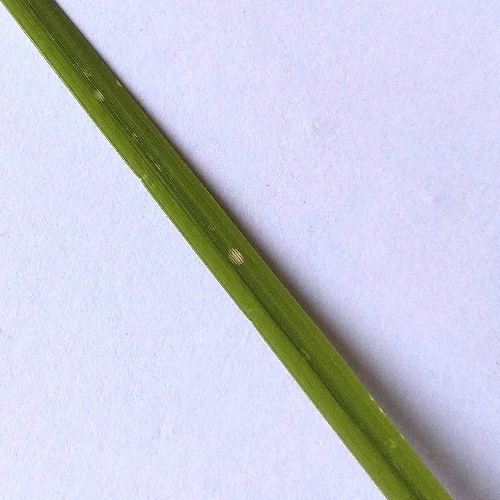Busuk Leher: (221, 239, 251, 273), (91, 84, 105, 101)
